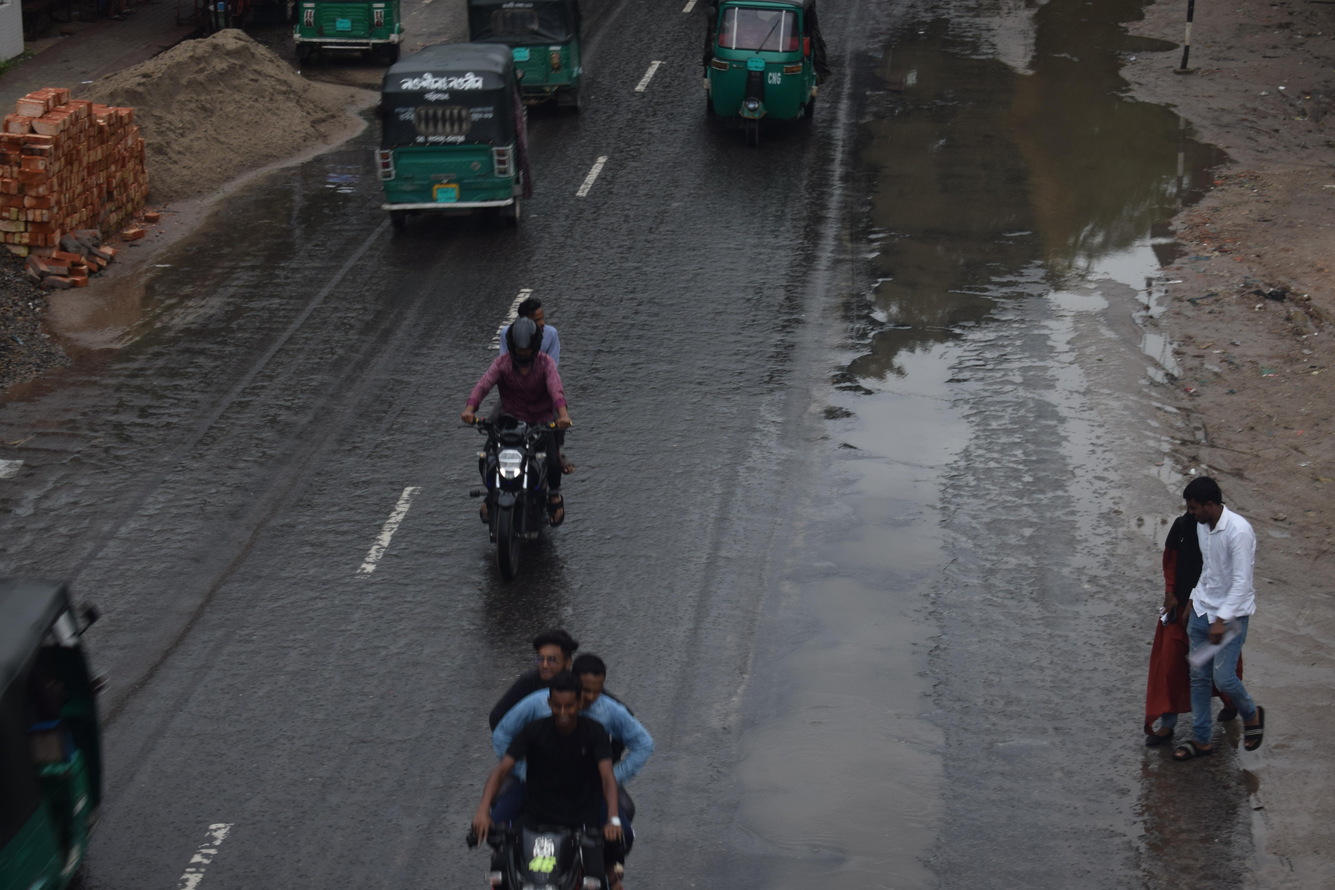Bike: (385, 595, 709, 890), (434, 252, 651, 601)
